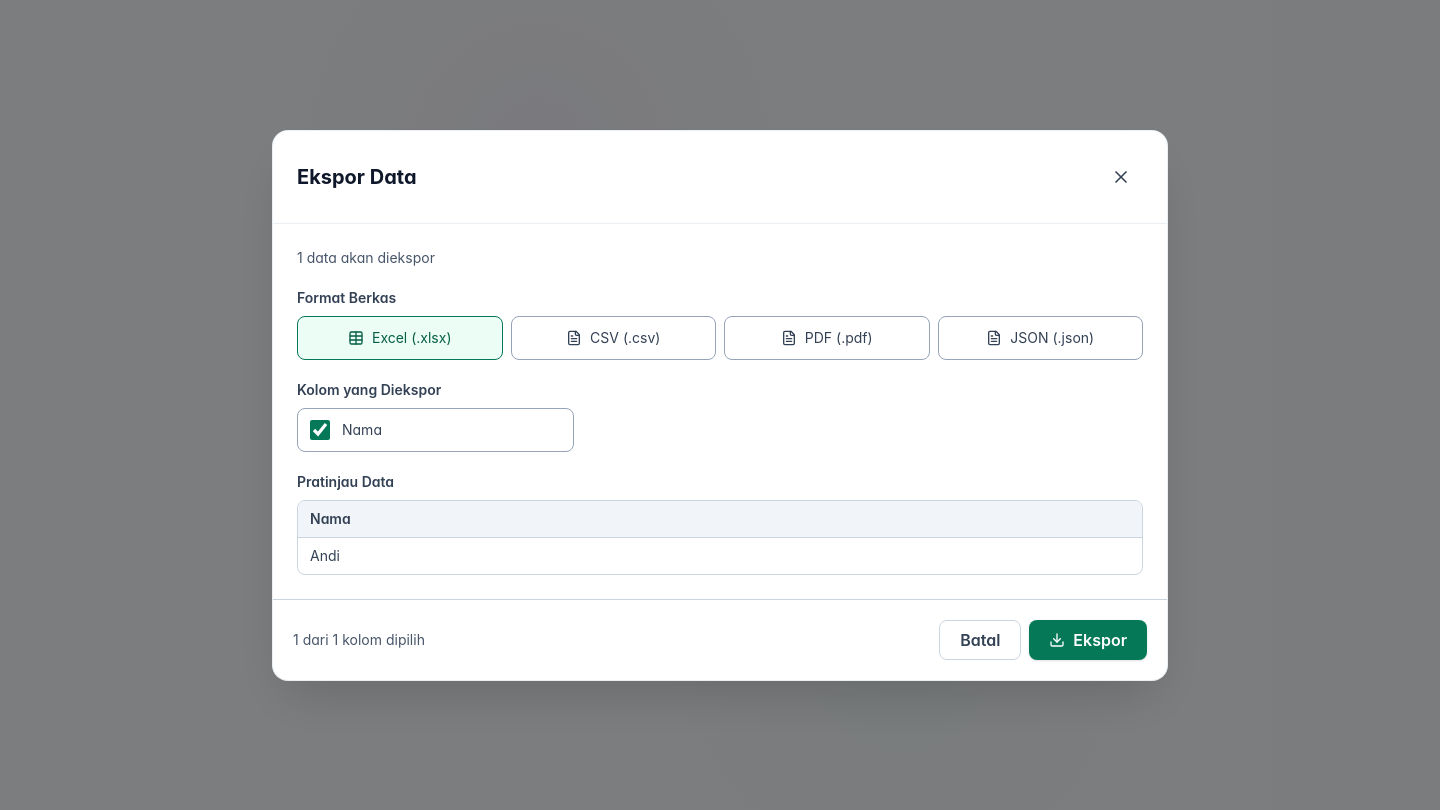
Test: student interface safety › disables export when no columns are selected
Click the checkbox labelled "Nama" at (320, 430), box 310,420 -> 330,440
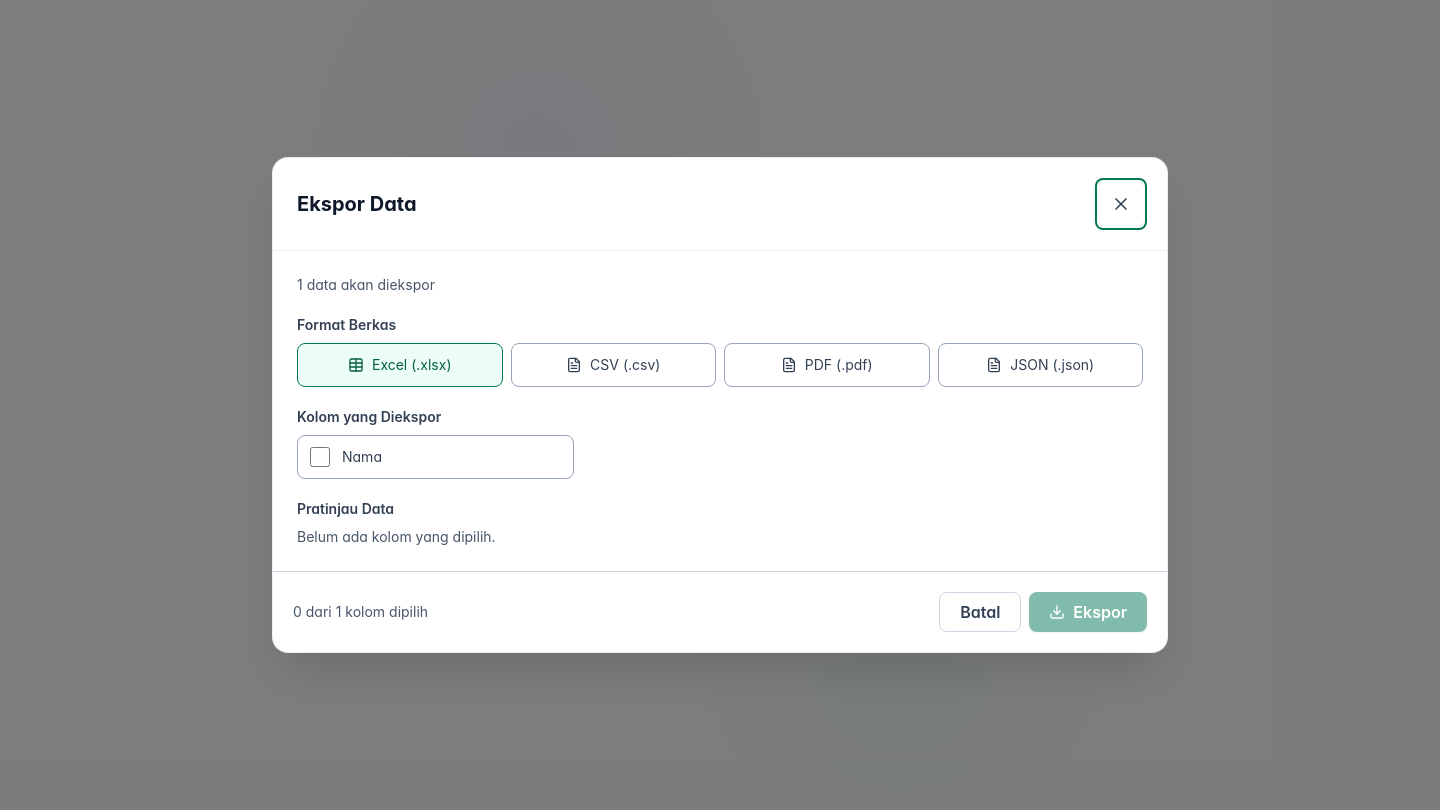
Now the button "Ekspor" is disabled, box 1029,592 -> 1147,632
Now the text "Belum ada kolom yang dipilih." is shown, box 297,528 -> 496,545
